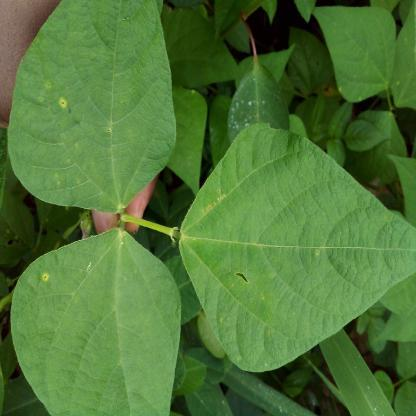Beans_Rust: (189, 121, 416, 374), (10, 0, 176, 214), (10, 232, 180, 416)
